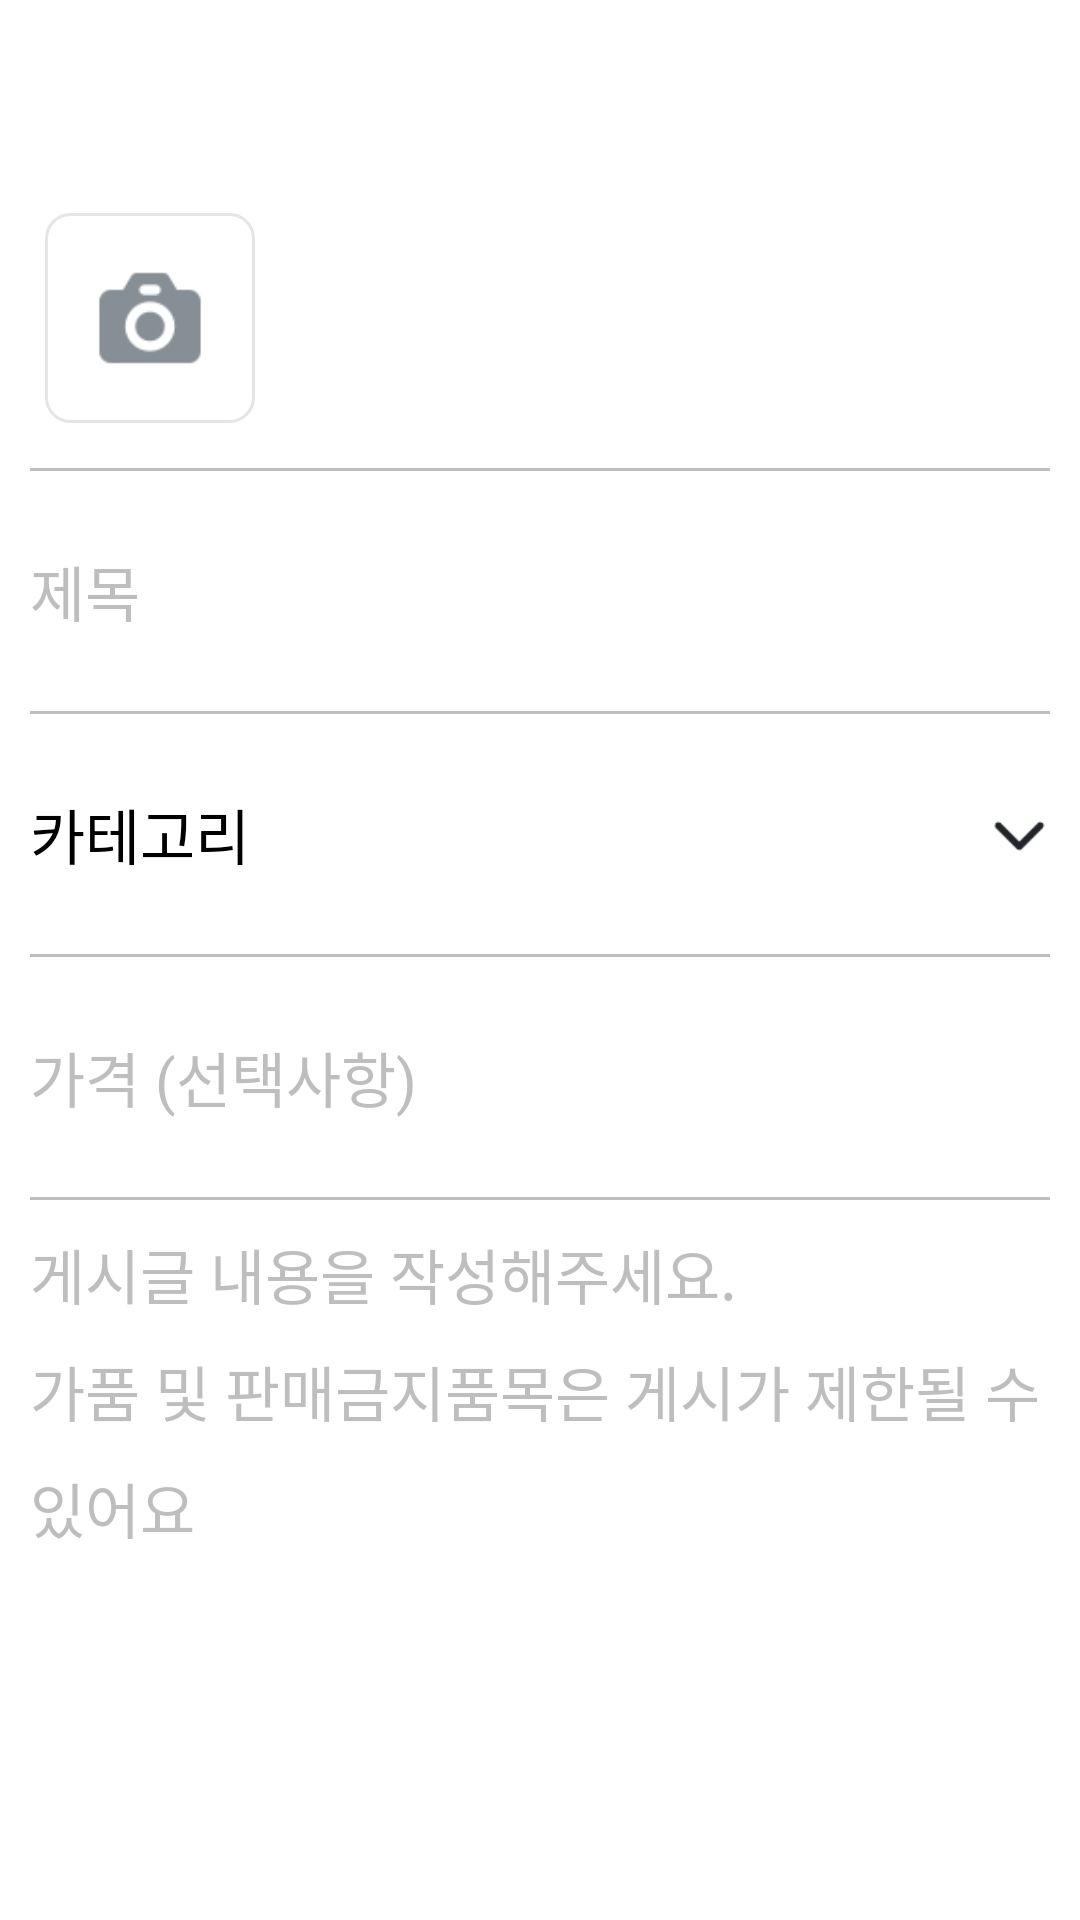

Screen size 1080px x 1920px. Icon name, then its box in pixels as (x1, y1, x2, y2):
camera: (99, 272, 201, 364)
down: (994, 821, 1045, 851)
